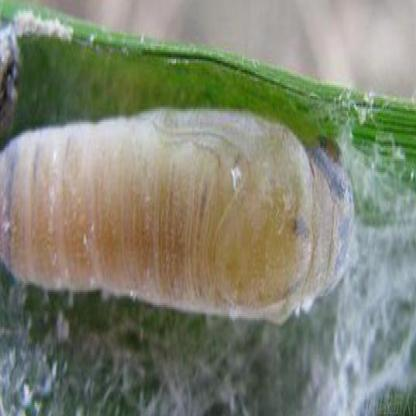leaf-folder: (18, 84, 376, 360)
